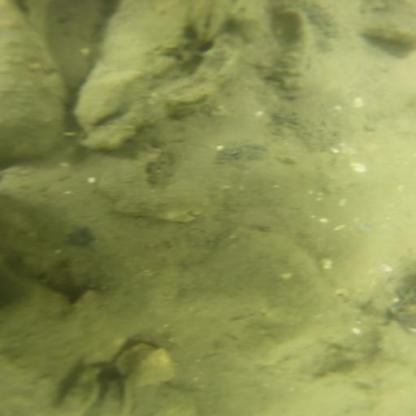Oyster-Closed: (70, 0, 268, 149), (0, 0, 63, 162)
